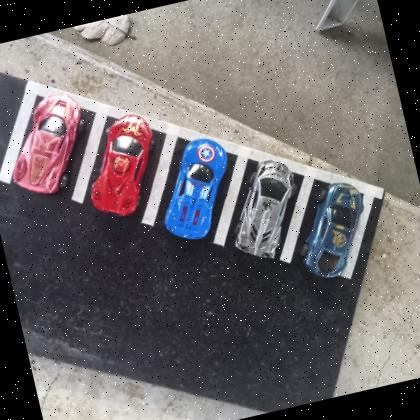Car: (0, 88, 96, 201), (148, 133, 244, 245), (74, 109, 168, 222), (217, 153, 310, 266), (288, 177, 380, 284)
